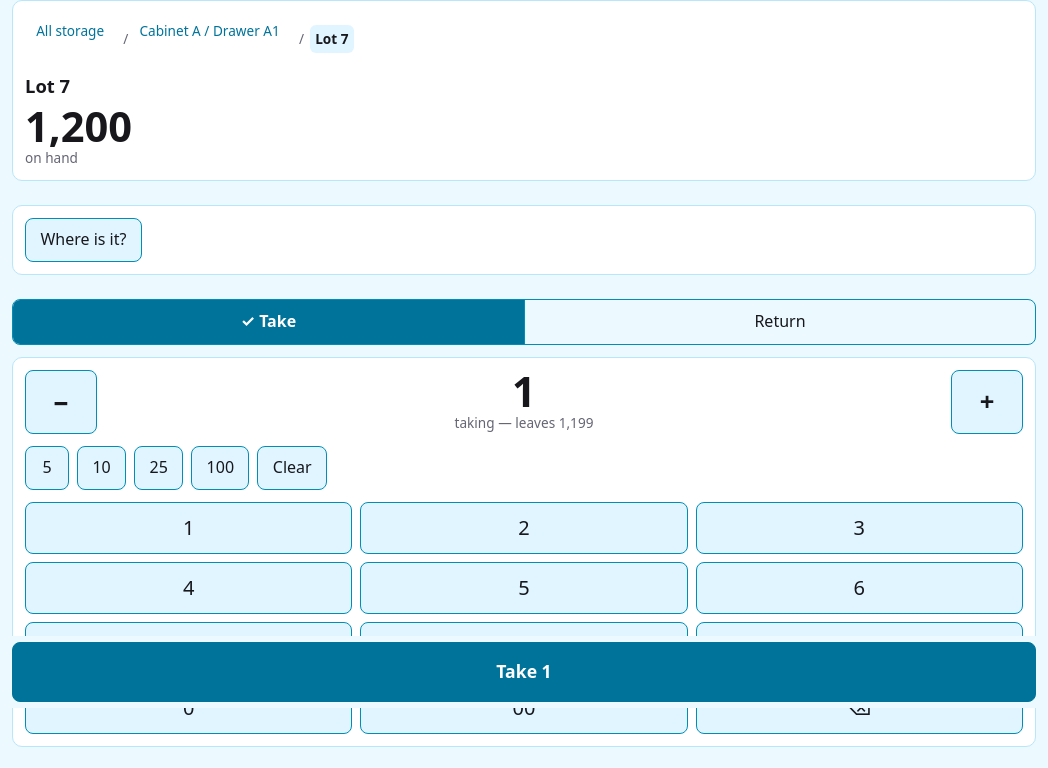
take / return › offers an eight-second undo when the movement was actually recorded
This screenshot has width=1048, height=768.
Click the button "Take 1" at (524, 672), box x1=12 y1=642 x2=1036 y2=702
(page scrolled)
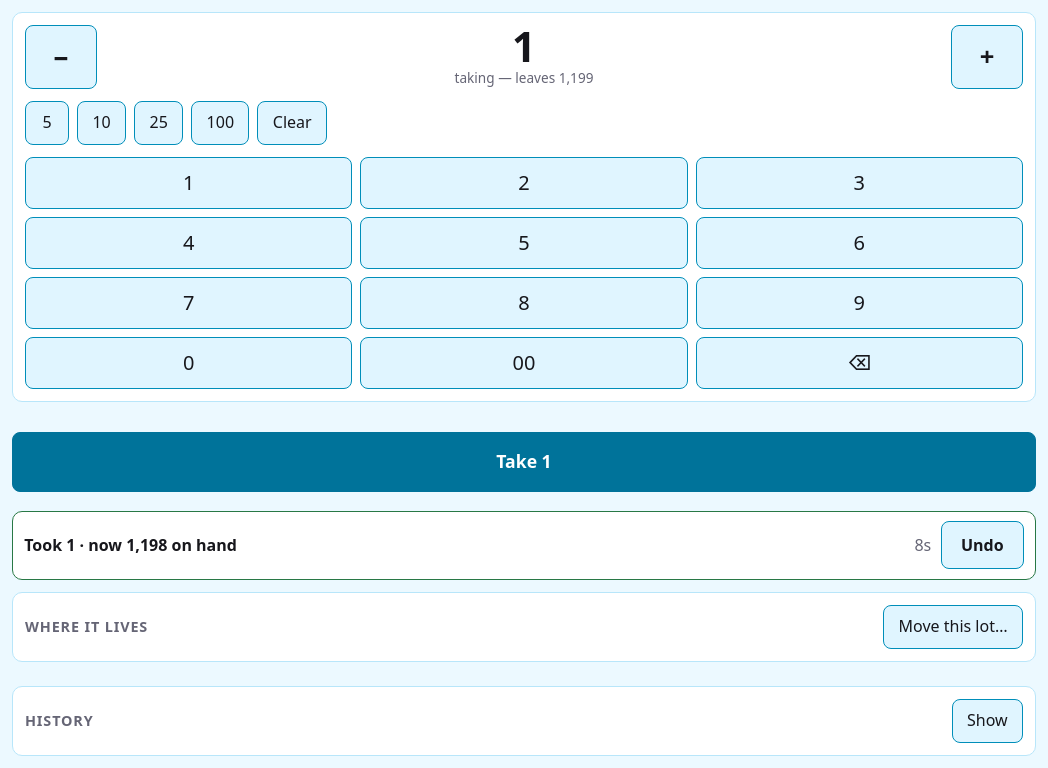
Now the button "Undo" is shown, box x1=941 y1=521 x2=1024 y2=569
Now the text "Took 1 · now 1,198 on hand" is shown, box x1=24 y1=534 x2=237 y2=556
